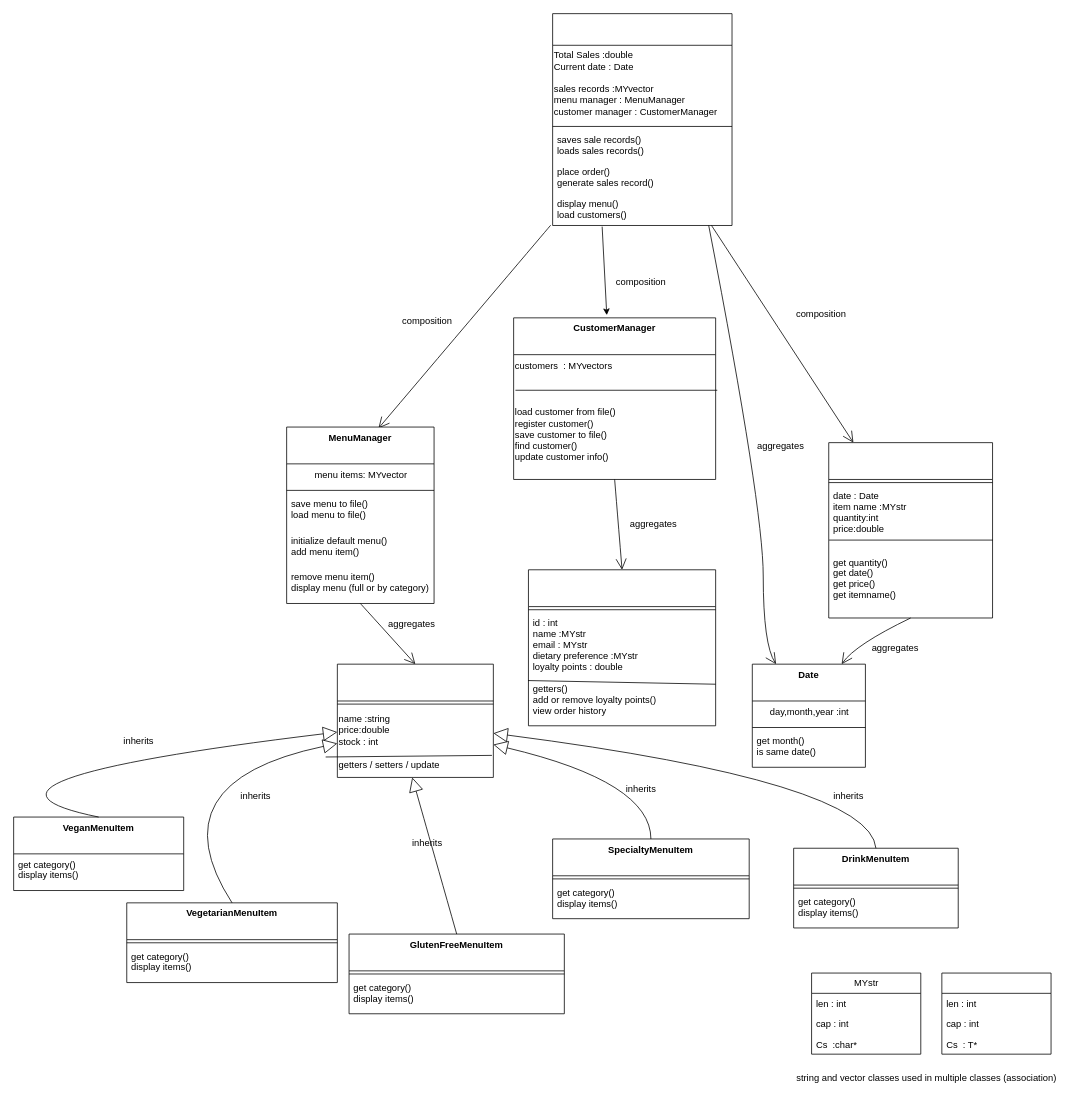
Some shapes in this 1080 by 1104 pixel diagram are drawn without their labels. The shapes that lost their labels are listed below. From the top down, each one's box as (x1, y1, x2, y2) in pixels, then its label:
(552, 13, 732, 225): Cafeteria
(828, 442, 993, 618): SalesRecord
(528, 569, 716, 726): Customer
(337, 663, 493, 777): MenuItem
(941, 972, 1051, 1054): MYvector
